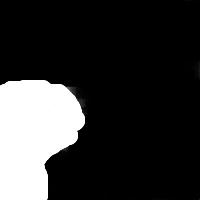halimeda: (1, 113, 66, 172), (47, 79, 95, 150), (1, 61, 35, 129), (1, 160, 56, 200), (21, 75, 63, 120), (27, 177, 36, 184), (16, 142, 23, 150), (31, 129, 40, 134), (10, 106, 16, 110), (40, 105, 44, 110), (55, 131, 60, 134)
